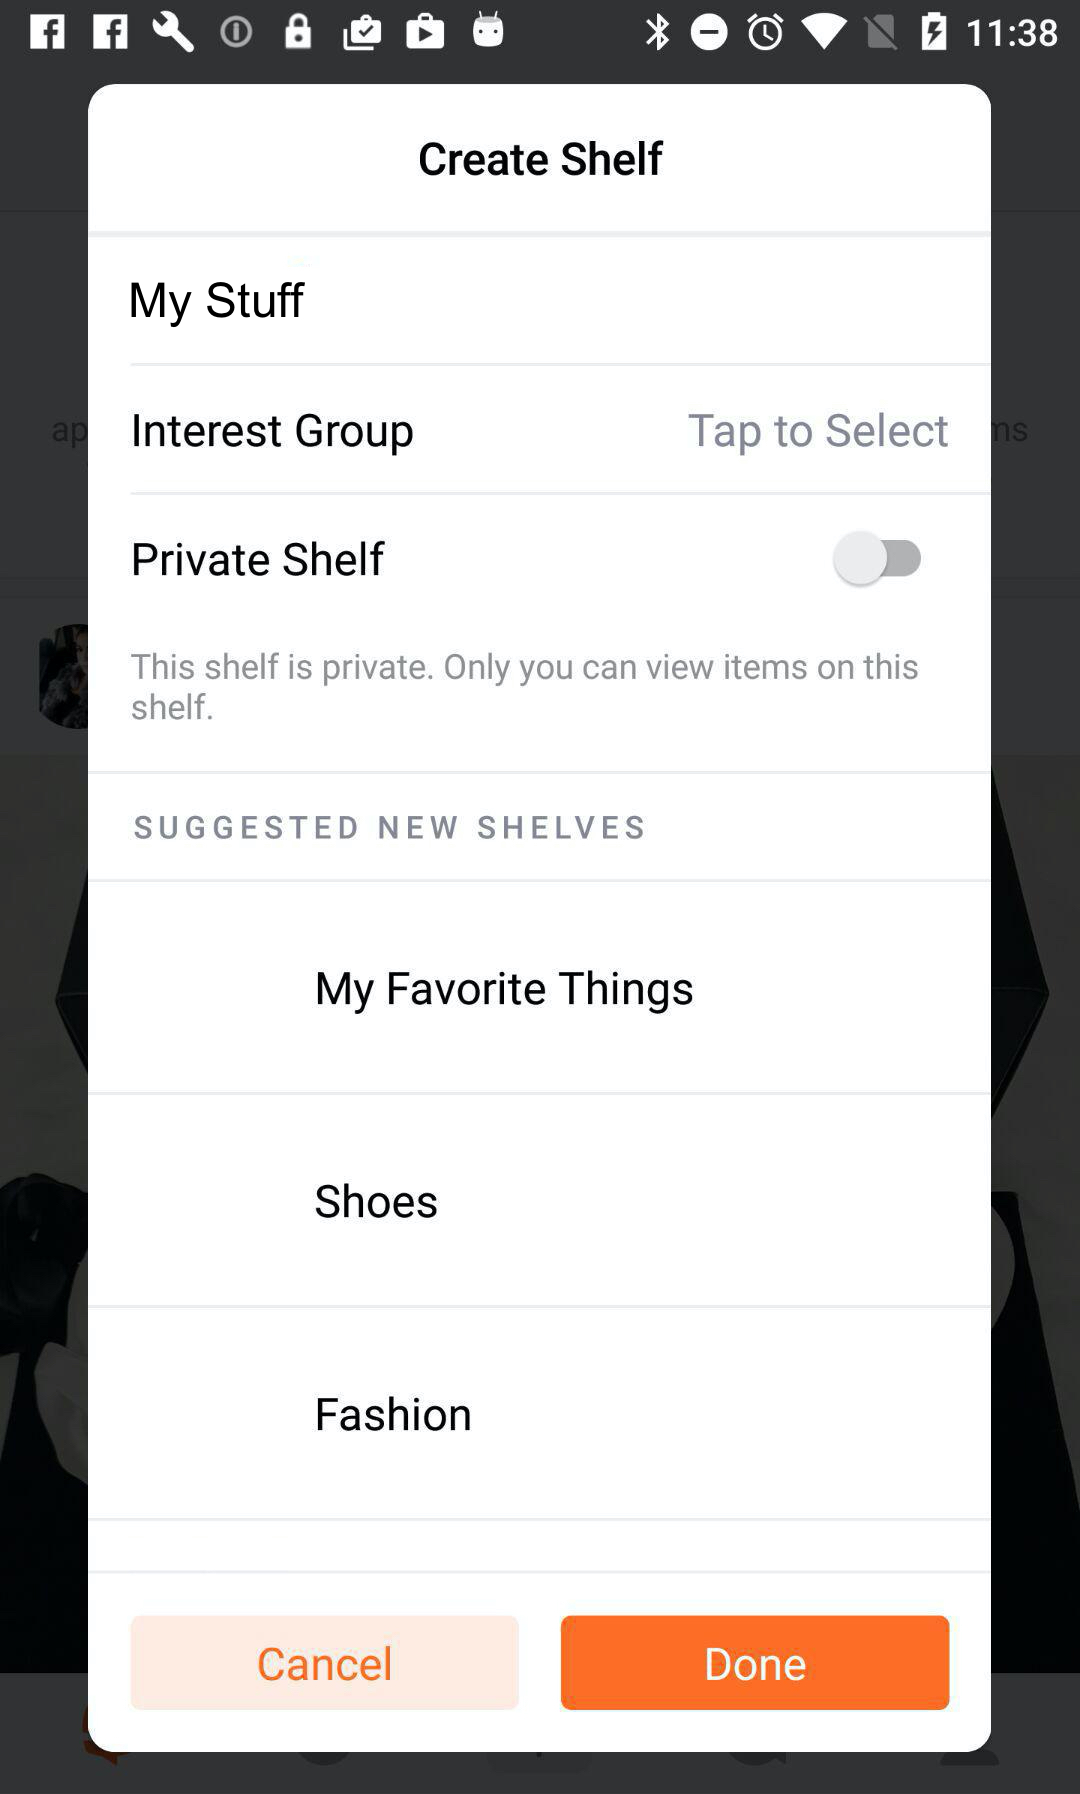Modal: (88, 85, 992, 1752)
Switch: (833, 531, 922, 588)
Text: (132, 651, 920, 721), (316, 970, 693, 1016), (135, 815, 644, 841), (135, 413, 416, 457), (689, 413, 951, 457), (133, 539, 387, 577), (418, 138, 666, 176), (132, 282, 307, 329), (316, 1394, 471, 1433), (316, 1181, 437, 1219)
TextButton: (562, 1615, 951, 1711), (131, 1617, 520, 1711)
UpperTaskBar: (1, 1, 1080, 64)
